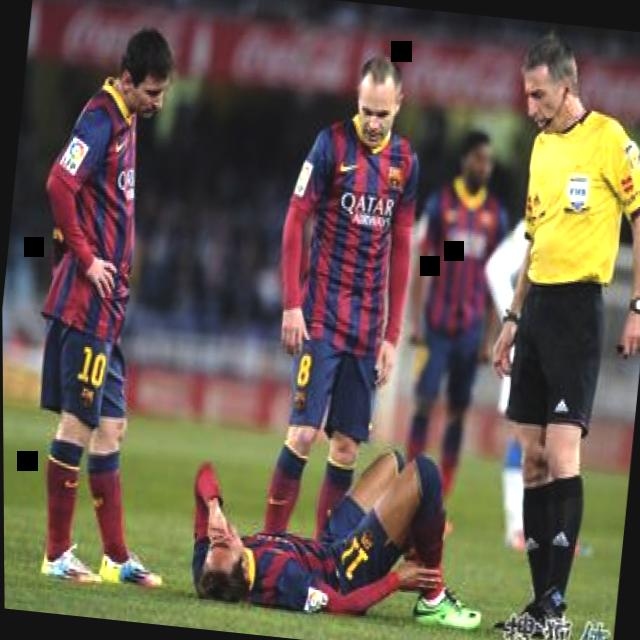Fall-Detected: (169, 413, 487, 631)
